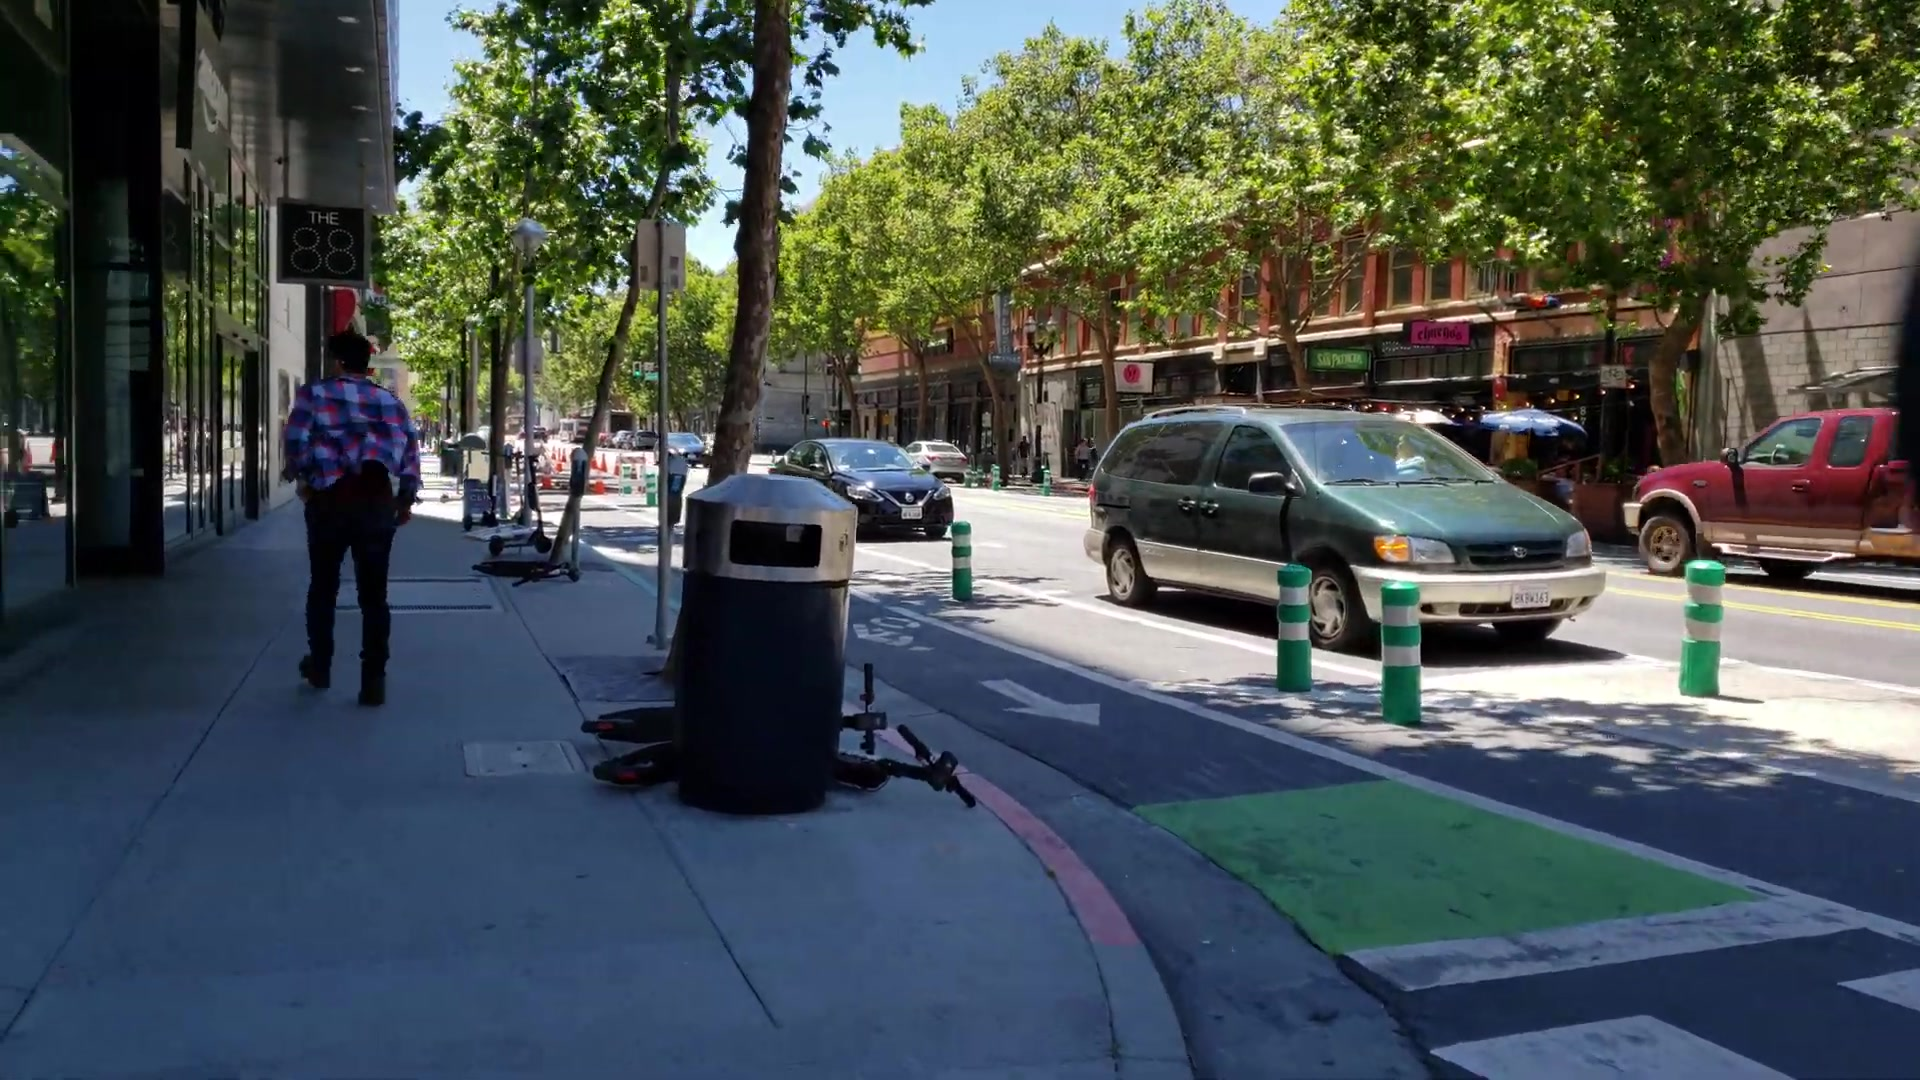vehicle: (1087, 406, 1604, 649)
